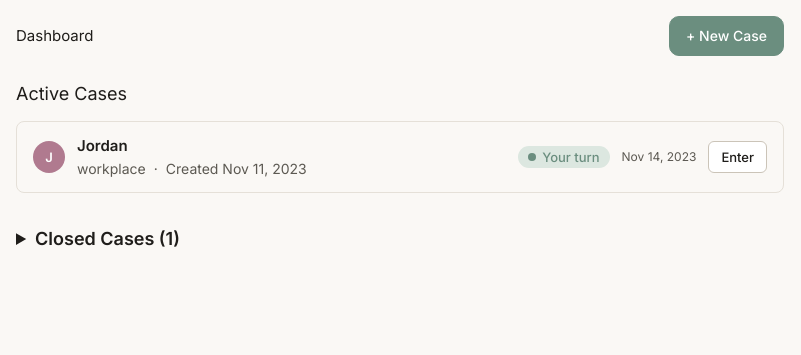
Test: AC: Status indicator semantics — each variant renders correct label › pill-closed renders 'Closed'
# Expand the collapsed Closed Cases section
Click the heading "Closed Cases (1)" at (108,239), box [35, 228, 180, 249]
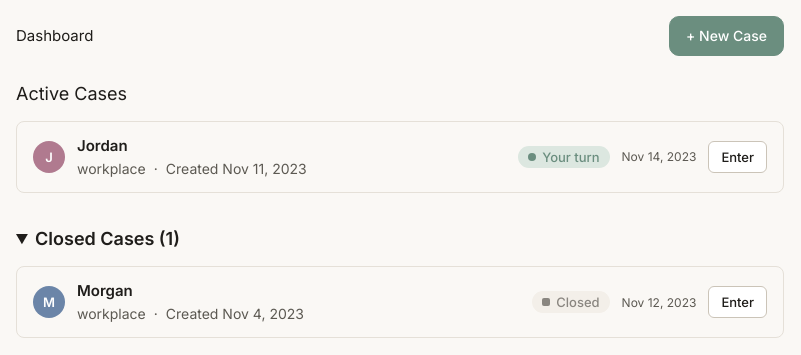
Expected: the text "Closed" is shown, [532, 291, 610, 313]
